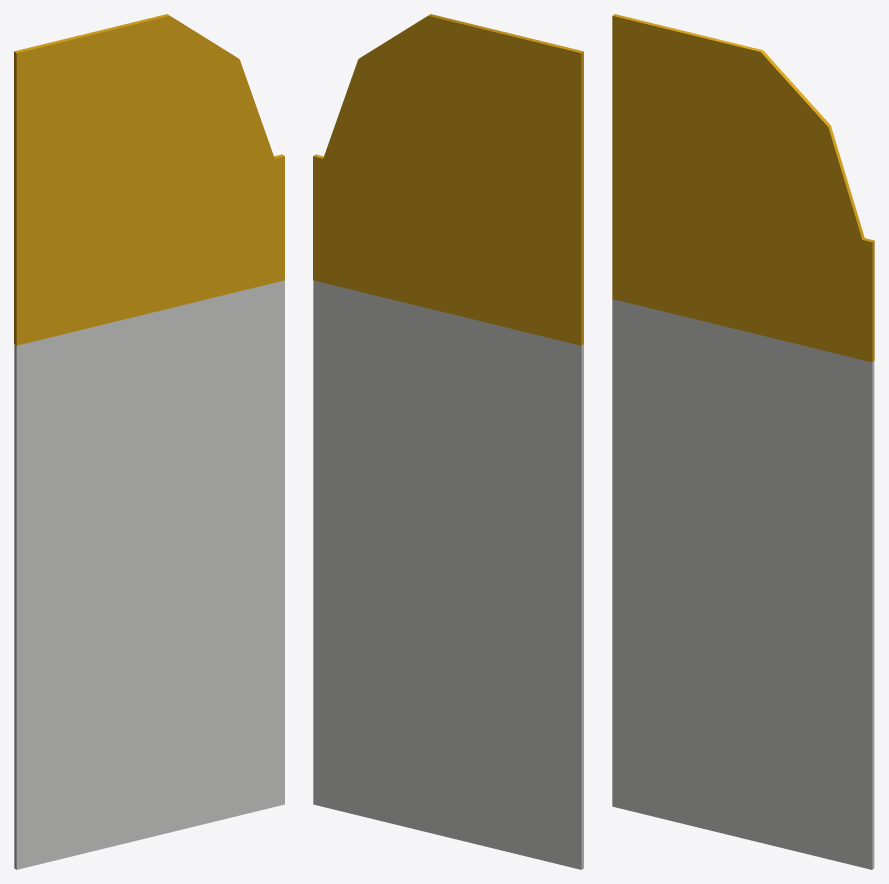
Rendered from door_r_rwkz.glb.
3 renders of one model, left to right at view 1: azimuth 30°, elevation 25°; view 2: azimuth 150°, elevation 25°; view 3: azimuth 330°, elevation 25°, orthographic. The views are drawn at different scales.
Visible parts, largest first — view 1: Door, DoorTop; view 2: Door, DoorTop; view 3: Door, DoorTop.
Boxes of the visible parts, left/top/right/bottom form: Door: left=14, top=280, right=284, bottom=869; DoorTop: left=14, top=14, right=284, bottom=345; Door: left=313, top=280, right=583, bottom=869; DoorTop: left=313, top=14, right=583, bottom=345; Door: left=612, top=299, right=874, bottom=869; DoorTop: left=612, top=14, right=874, bottom=362.
Bounding box in the file's own units: 1.58 × 4.61 × 0.026.
